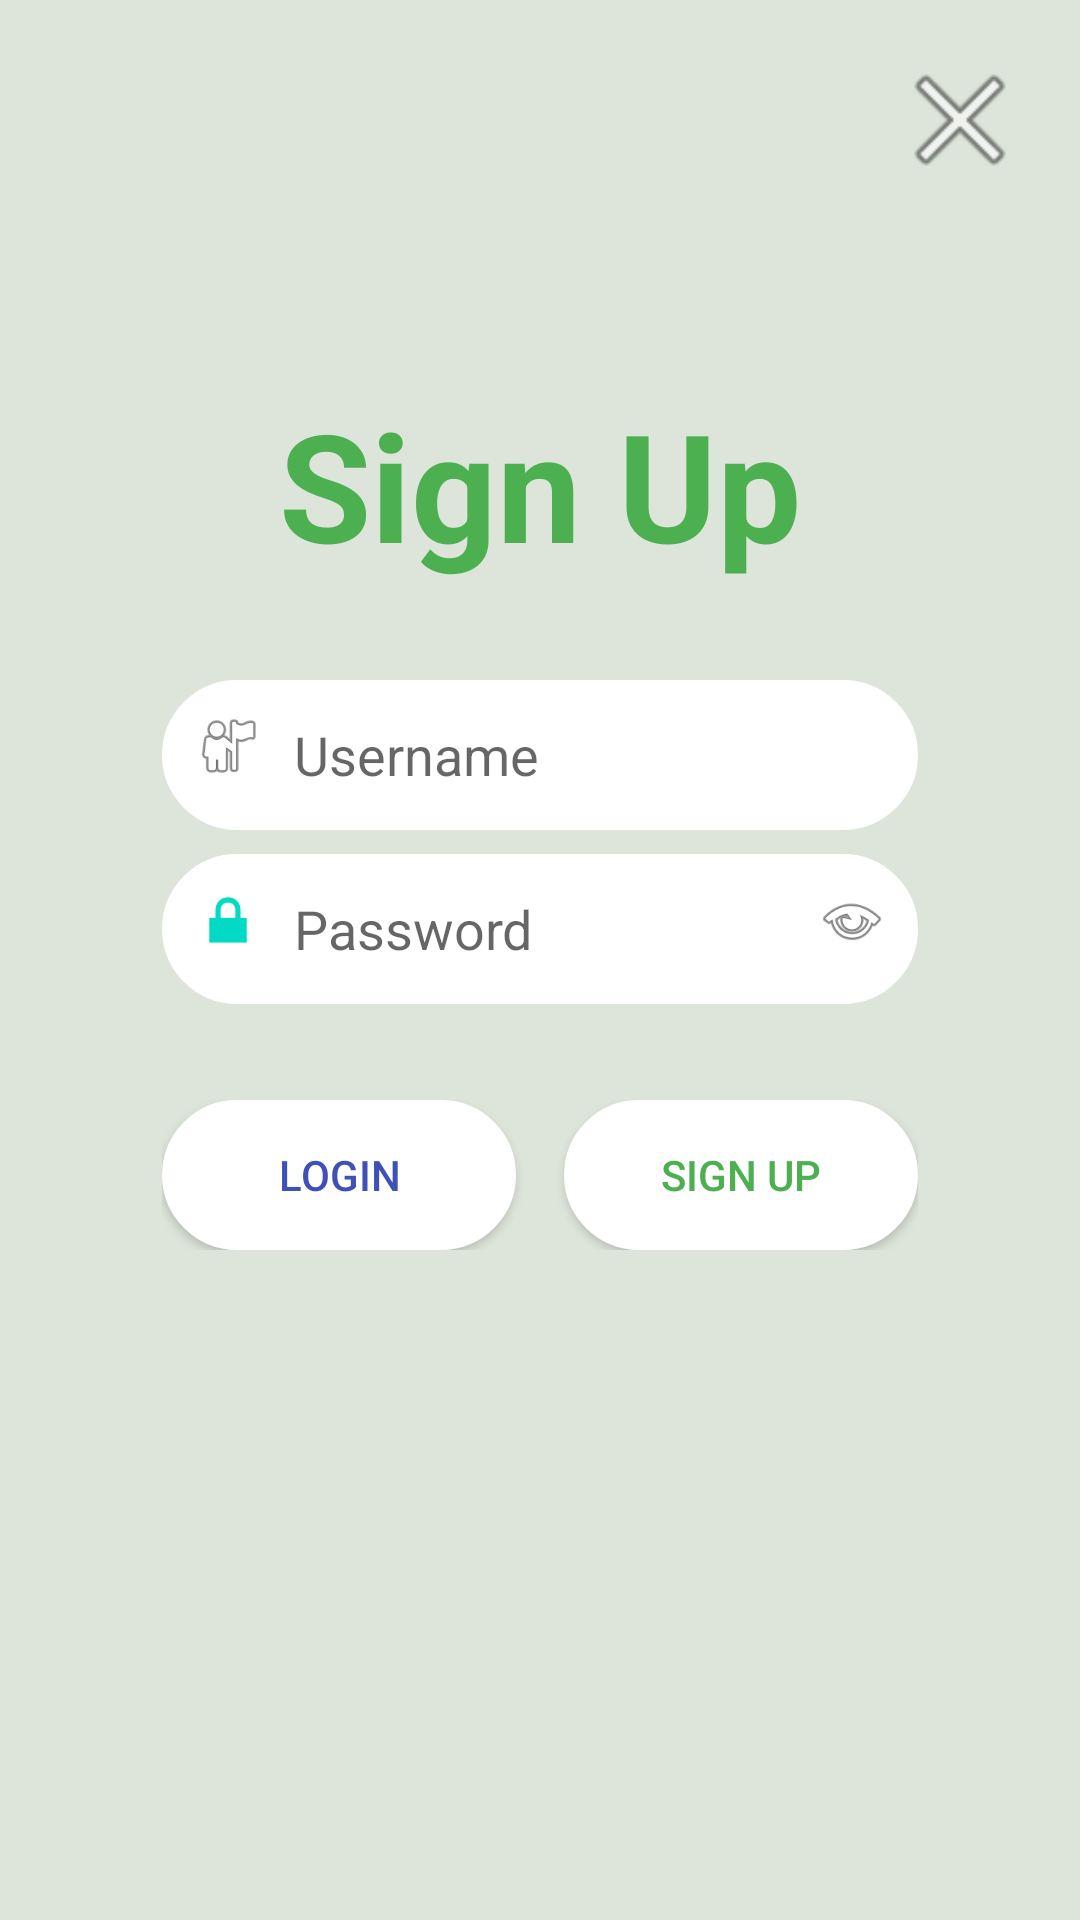

Screen size 1080 x 1920. Icon name, then its box in pixels as bbox=(x1, y1, x2, y2):
lock: bbox=(209, 897, 247, 943)
myplaces: bbox=(202, 719, 256, 773)
view: bbox=(823, 903, 881, 940)
